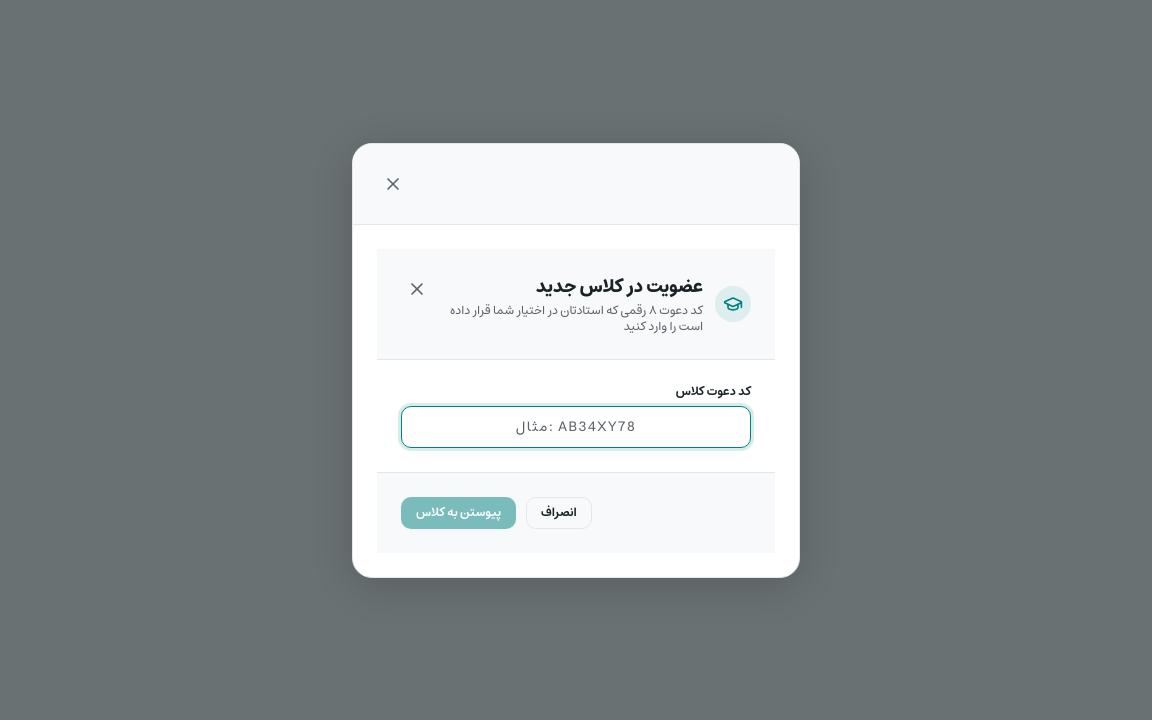
Student Teacher Platform Exam Flow — Unit & Integration Tests › Classrooms Management › 1.3. Displays clear Persian error when invite code is not found (404)
The width and height of the screenshot is (1152, 720).
Type "INVALID99" into the field with placeholder "مثال: AB34XY78".
click(576, 426); type("INVALID99")  # box [401,406,751,448]
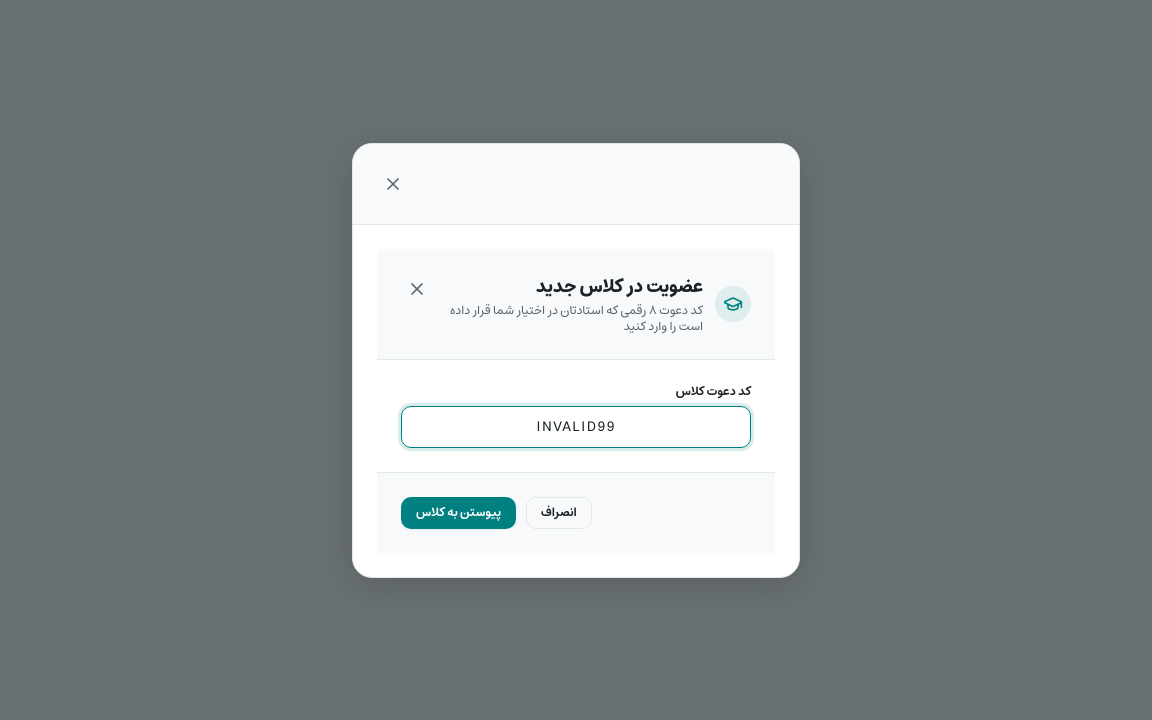
Click the button "پیوستن به کلاس".
click(458, 512)  # box [401,496,516,528]
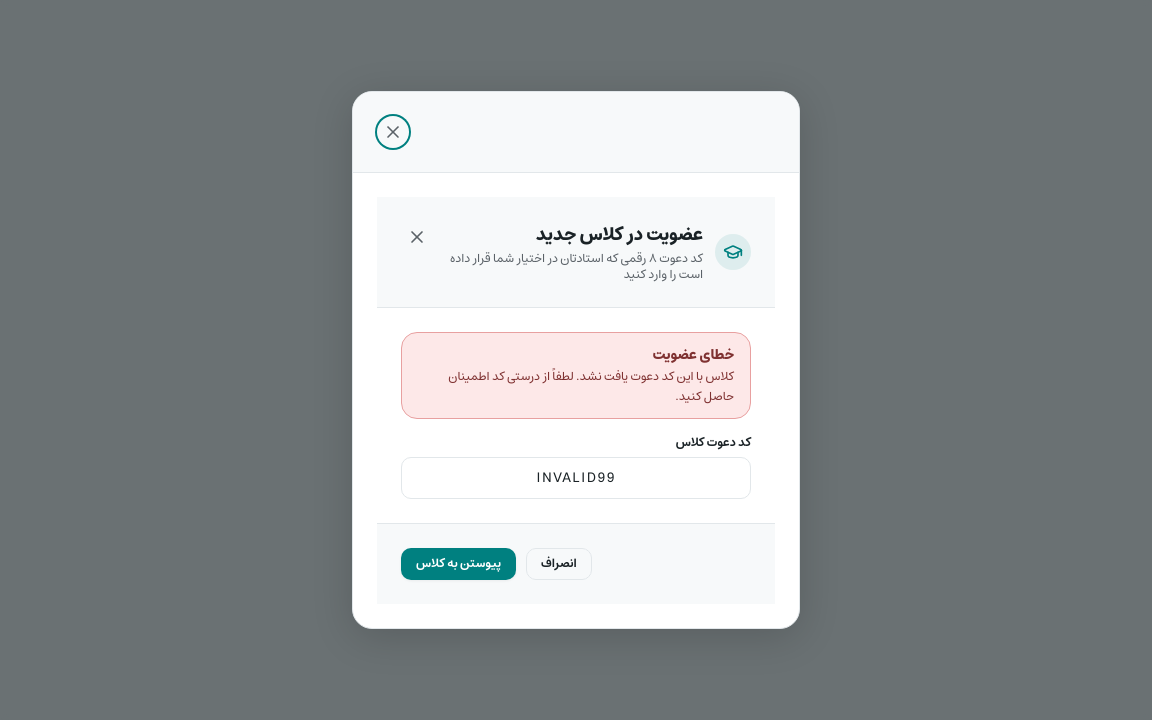
Result: the text "کلاس با این کد دعوت یافت نشد. لطفاً از درستی کد اطمینان حاصل کنید." is shown at [418,367,734,406]
